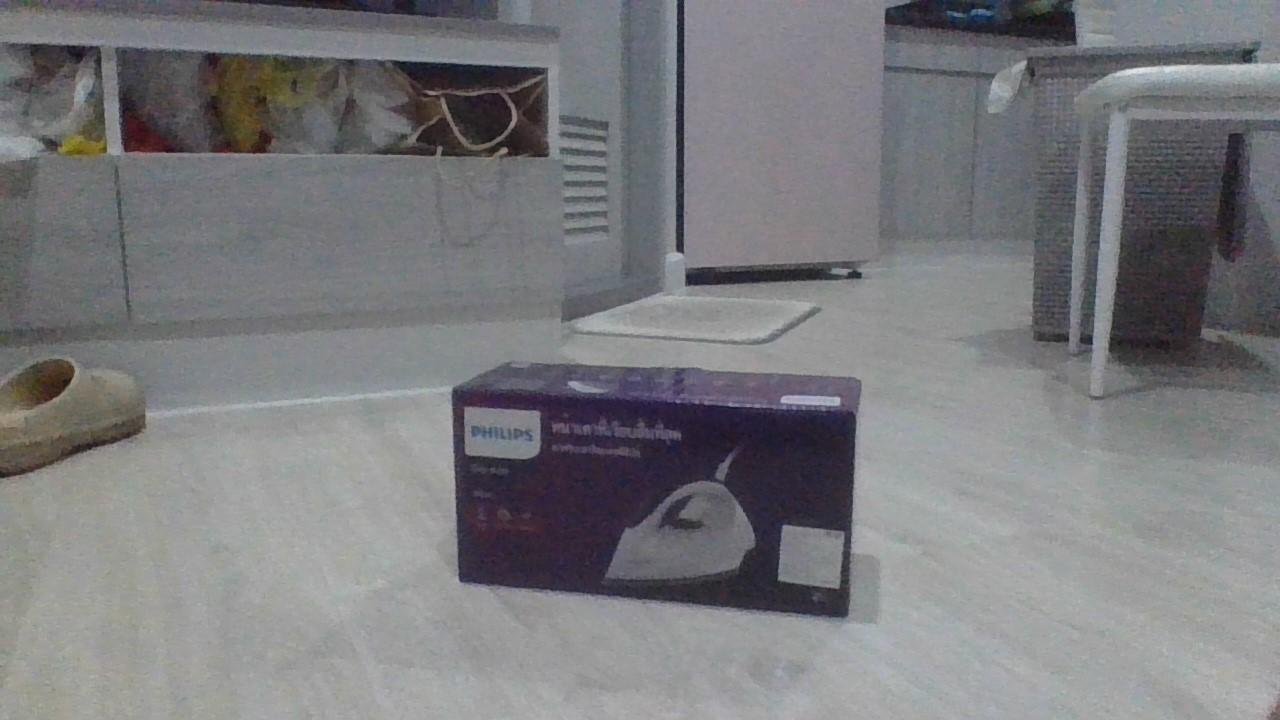IRON: (446, 355, 866, 622)
